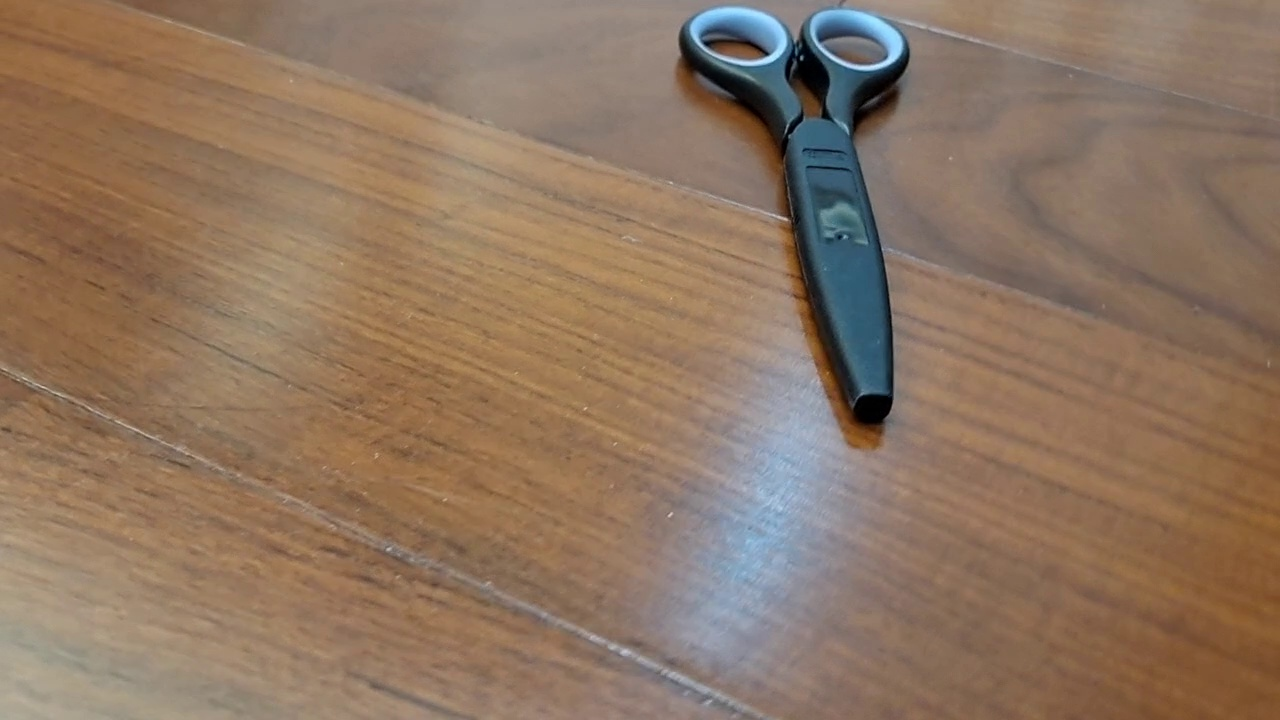scissors: (678, 5, 911, 425)
